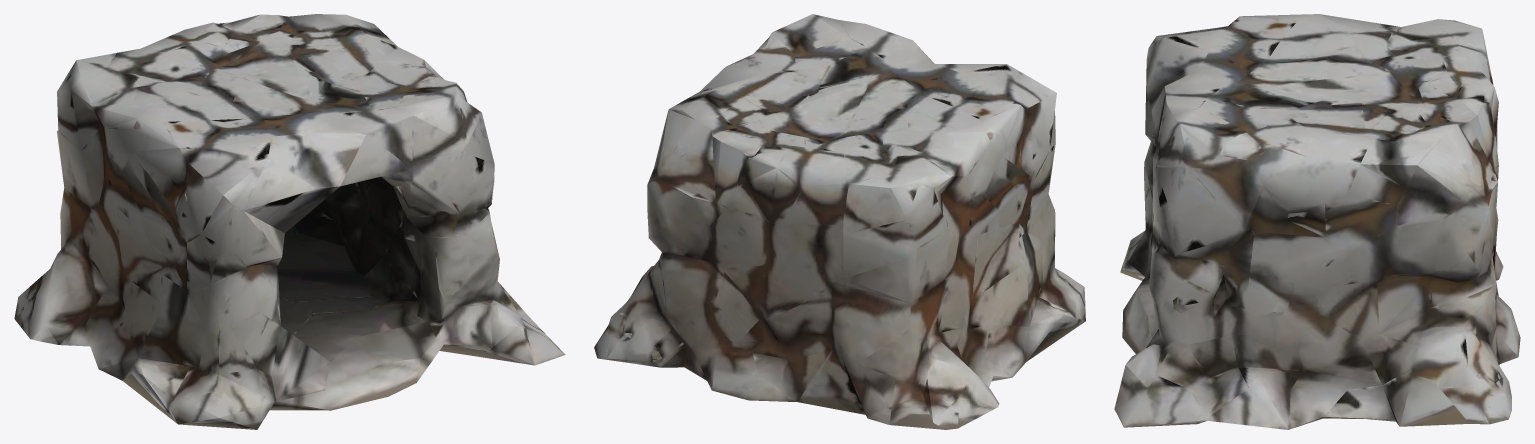
Rendered from blk_cave_exit.glb.
3 views of the same model, side by side, from view 1: azimuth 30°, elevation 25°; view 2: azimuth 150°, elevation 25°; view 3: azimuth 270°, elevation 25° (orthographic). The views are drawn at different scales.
Bounding box in the file's own units: 1.96 × 1.23 × 1.72.
1 material, 1 textured.
